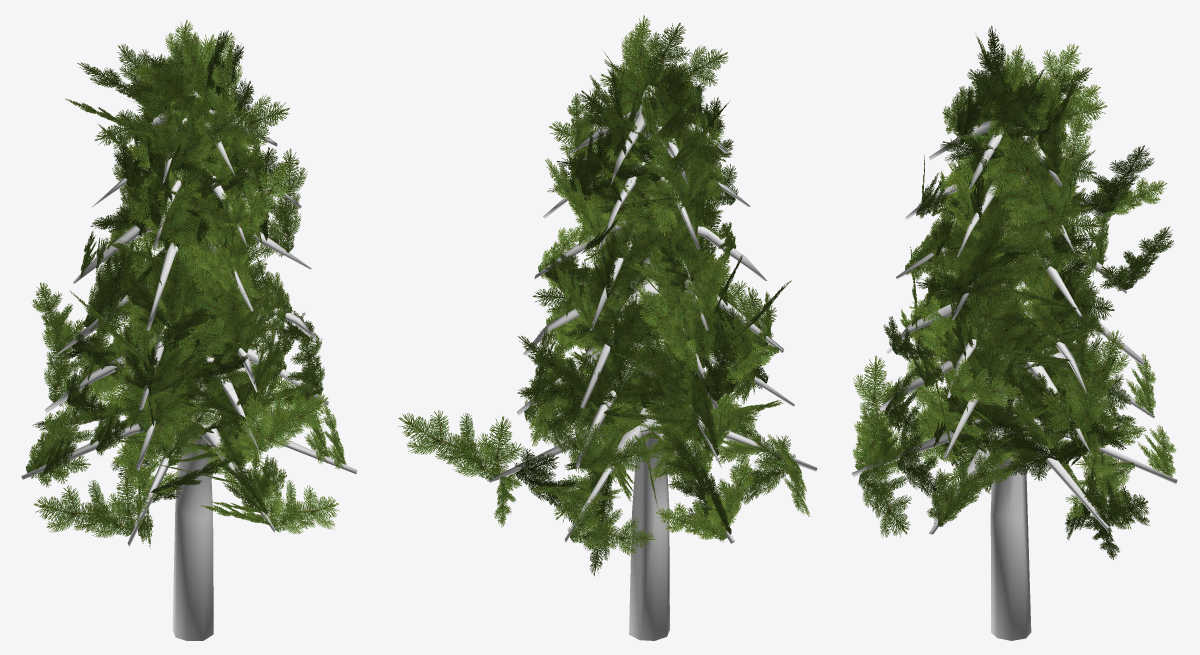
Rendered from Tree3_LOD1.fbx.
3 renders of one model, left to right at view 1: azimuth 30°, elevation 25°; view 2: azimuth 150°, elevation 25°; view 3: azimuth 270°, elevation 25°, orthographic. The views are drawn at different scales.
Parts seen in each view (by area): view 1: Tree_3_LOD1_Branches, Tree_3_LOD1_Trunk; view 2: Tree_3_LOD1_Branches, Tree_3_LOD1_Trunk; view 3: Tree_3_LOD1_Branches, Tree_3_LOD1_Trunk.
Part boxes in pixels (x1,y1,x2,y2): Tree_3_LOD1_Branches: (25,20,346,548); Tree_3_LOD1_Trunk: (21,90,357,640); Tree_3_LOD1_Branches: (398,15,810,576); Tree_3_LOD1_Trunk: (489,84,817,640); Tree_3_LOD1_Branches: (853,25,1175,559); Tree_3_LOD1_Trunk: (852,120,1177,640).
Bounding box in the file's own units: 574 × 972 × 490.
Materials: 2 (1 with a texture image).
